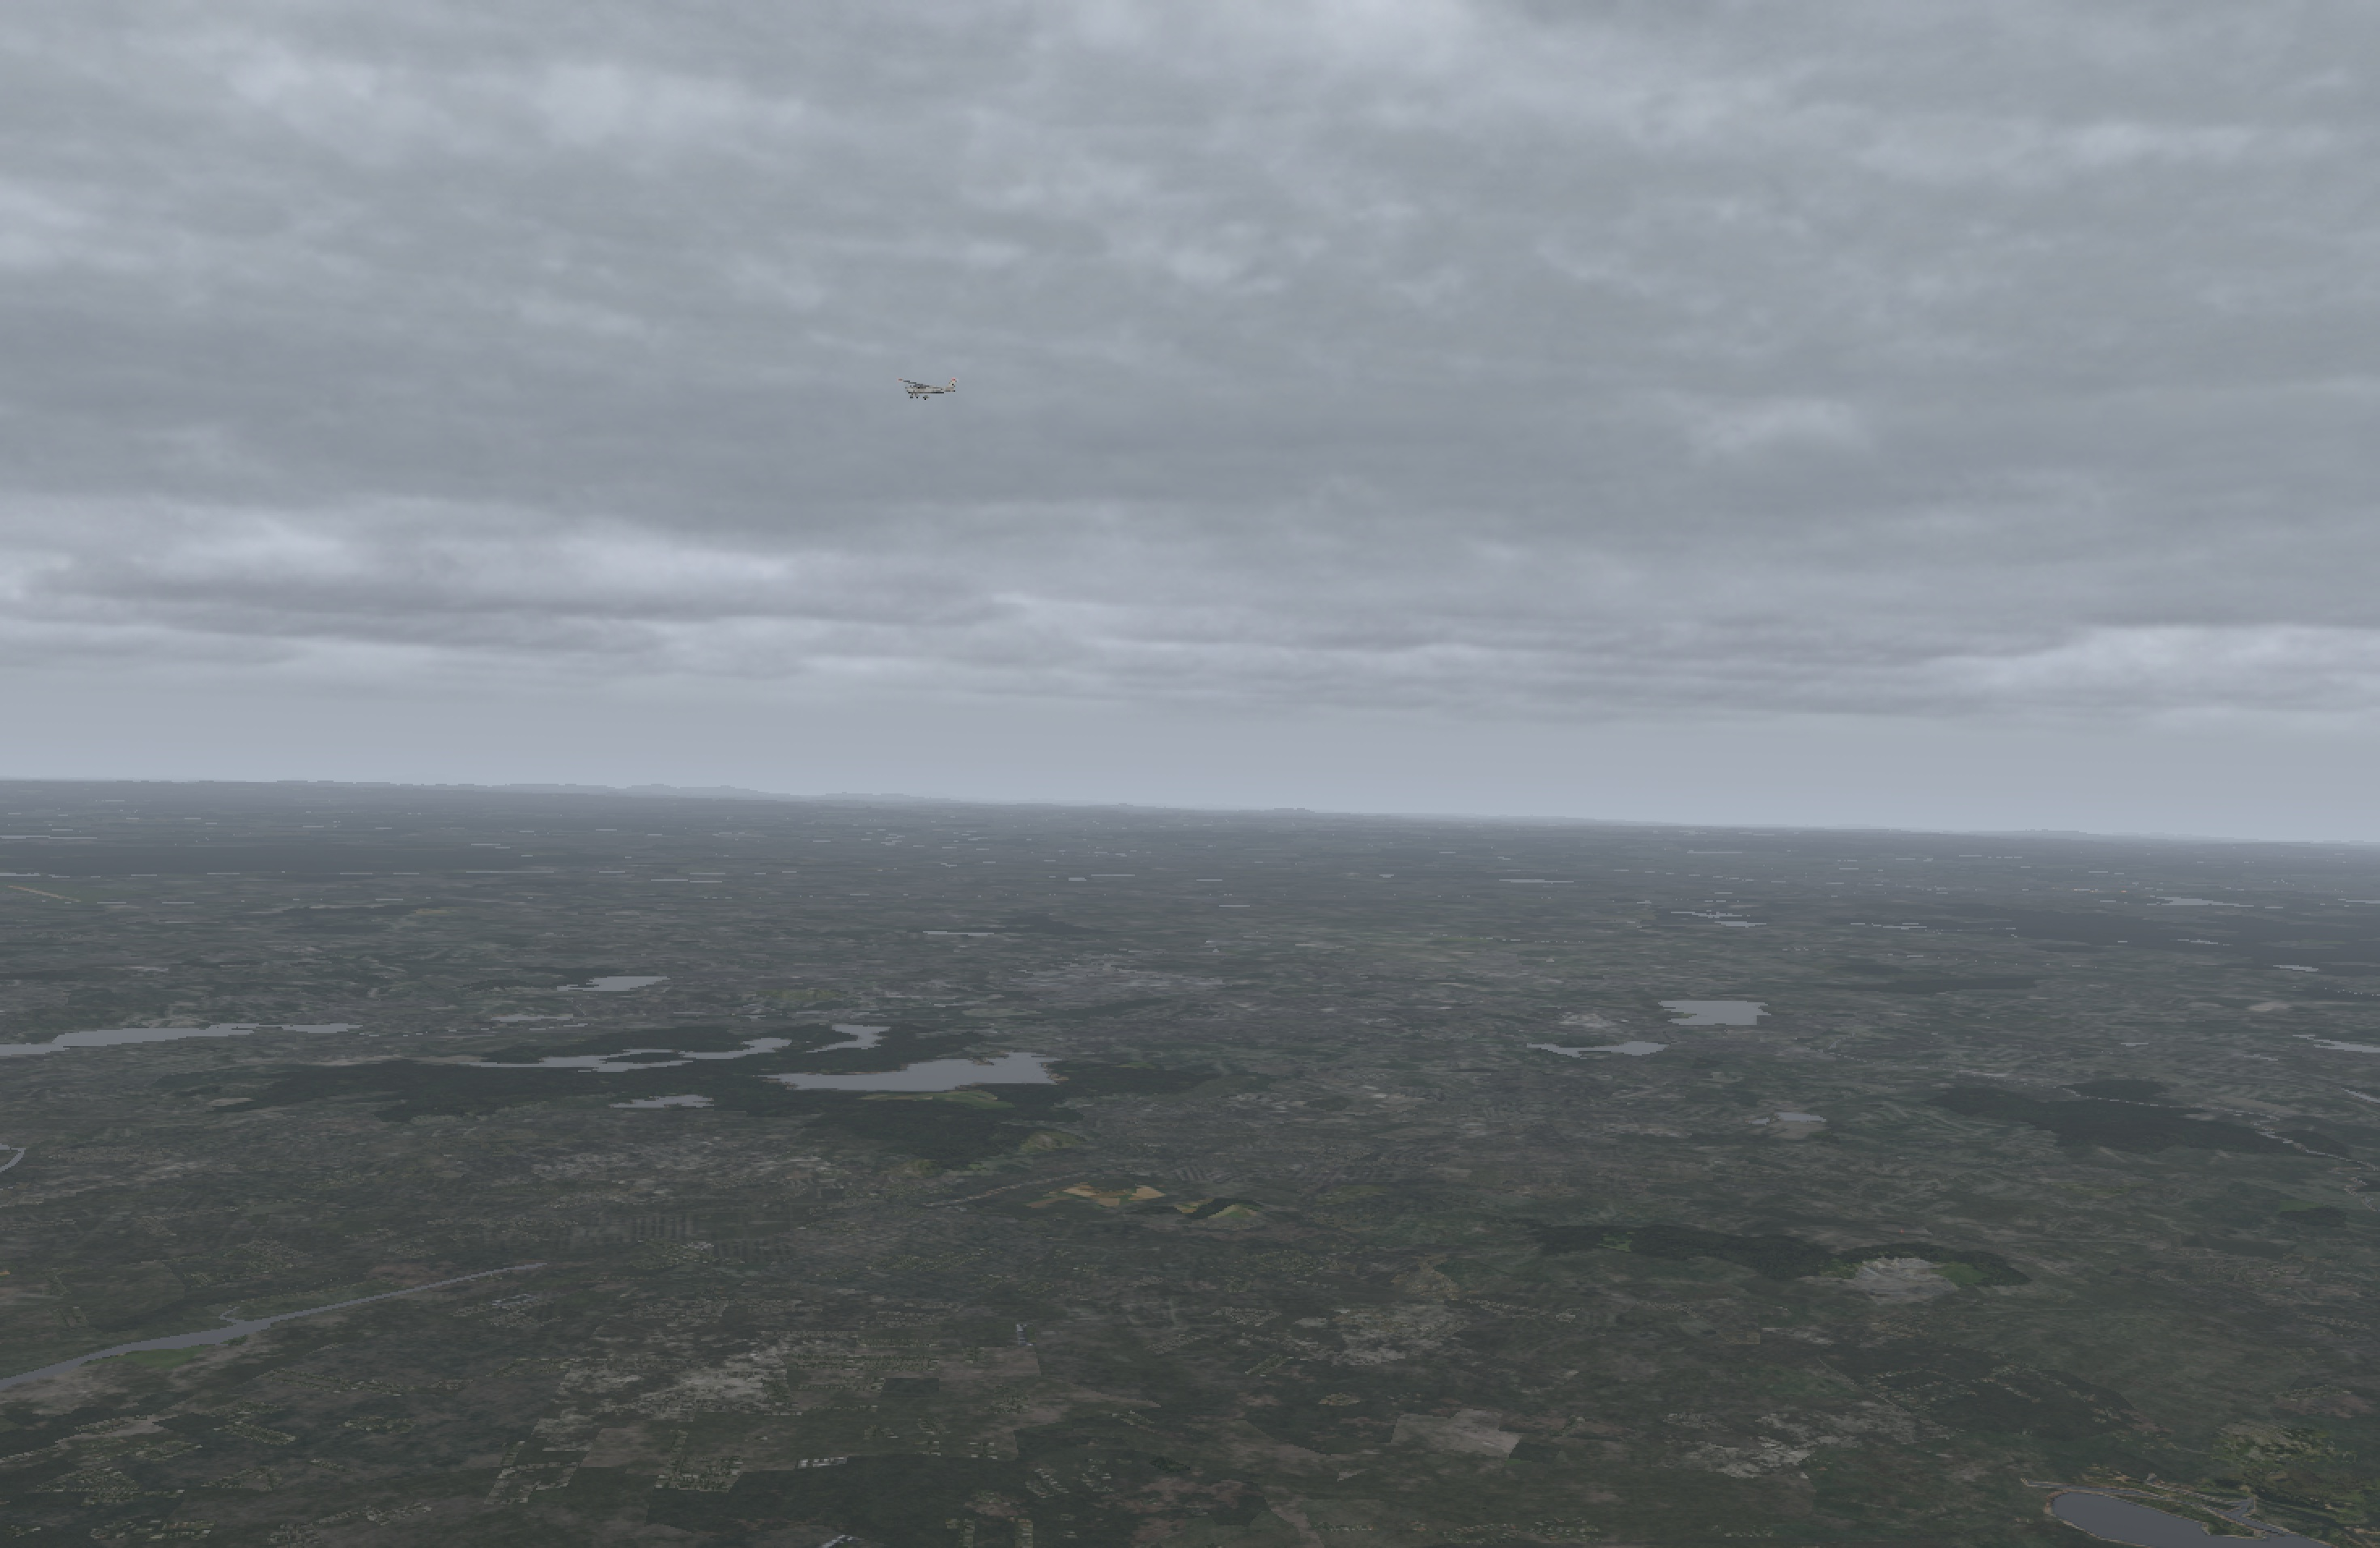aircraft: (892, 378, 947, 399)
